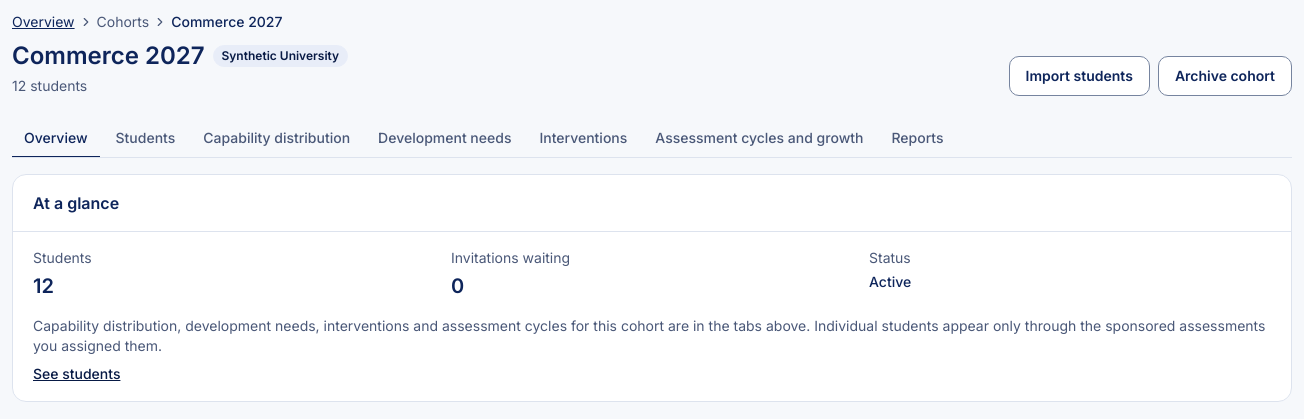
it: Cohort sections › development needs link to a prefilled intervention for this cohort; interventions show only this cohort with the loop
Click the tab "Development needs": (445,139) [366,120,523,158]
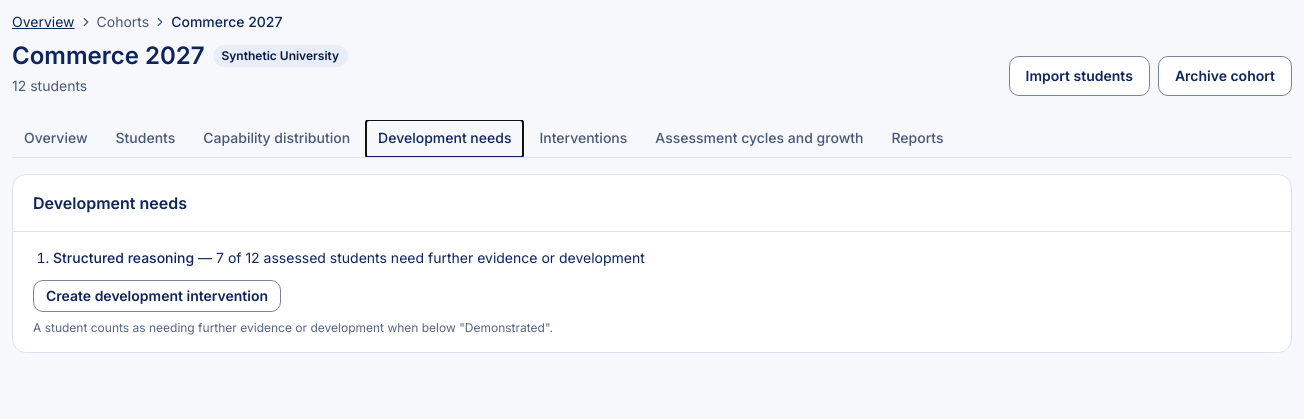
Click the tab "Interventions": (583,139) [527,120,639,158]
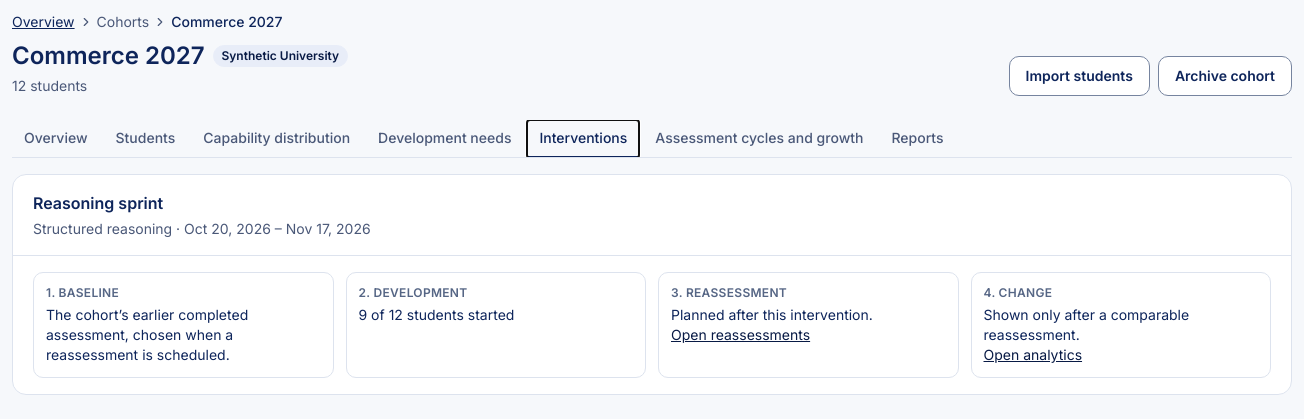
Expected: the heading "Reasoning sprint" is shown, [33,193,163,213]
Expected: the list with test id "intervention-loop" is shown, [33,272,1271,378]
Click the tab "Assessment cycles and growth": (759,139) [643,120,876,158]
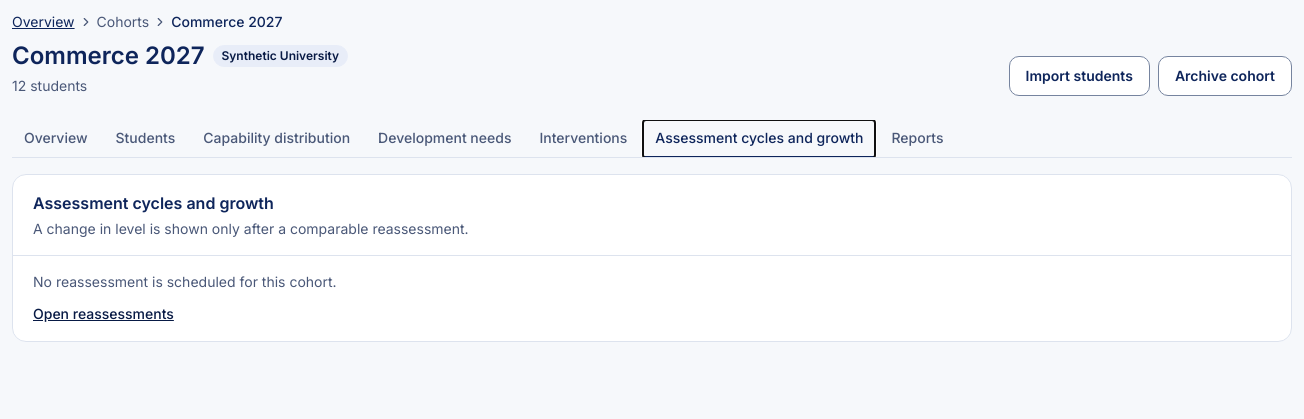
Expected: the text "No reassessment is scheduled for this cohort." is shown, [33,273,337,290]
